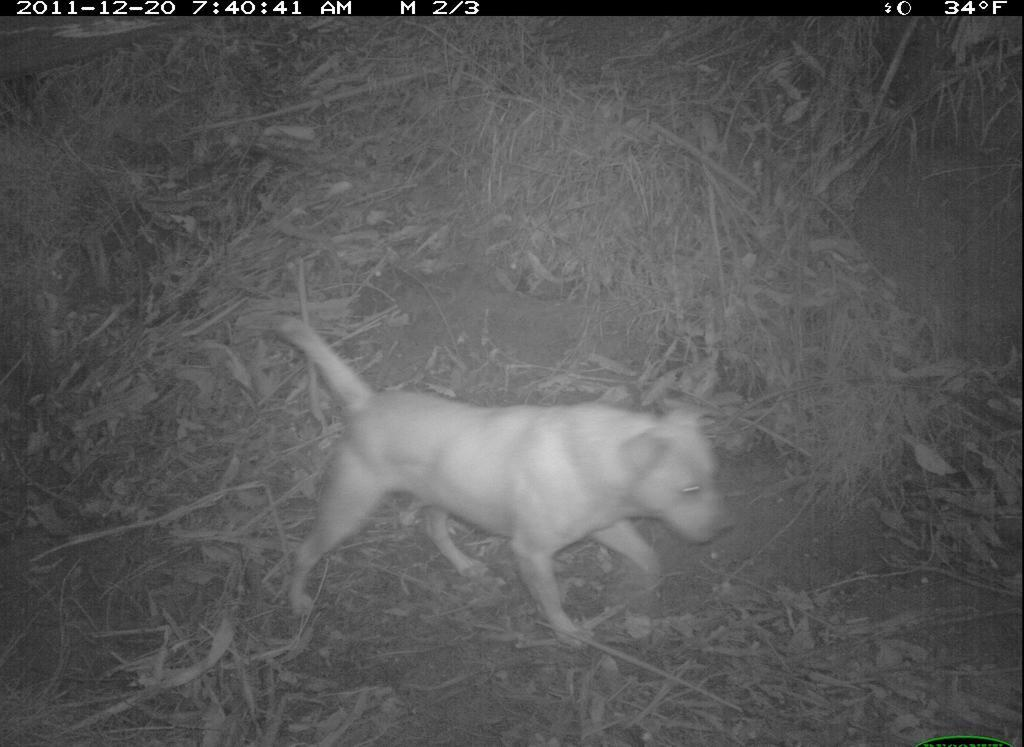dog: (246, 299, 739, 661)
